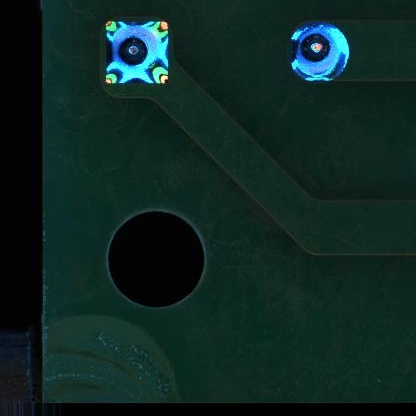spot: (106, 21, 167, 84), (287, 21, 349, 82)
